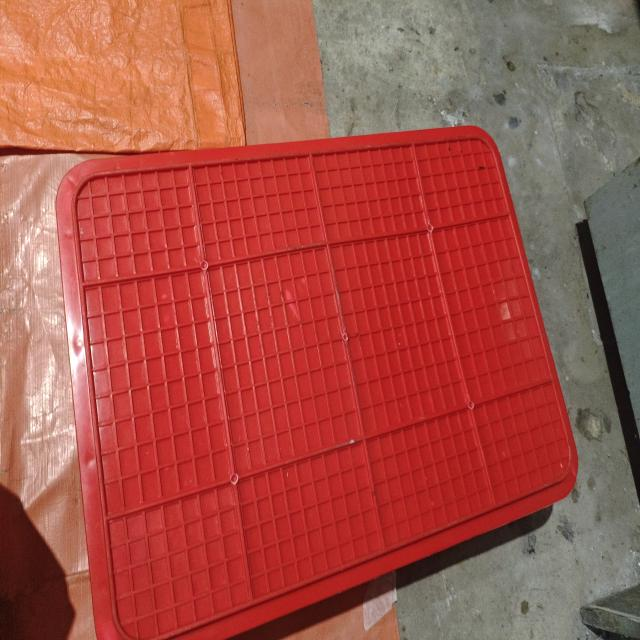red plastic box: (56, 125, 578, 640)
